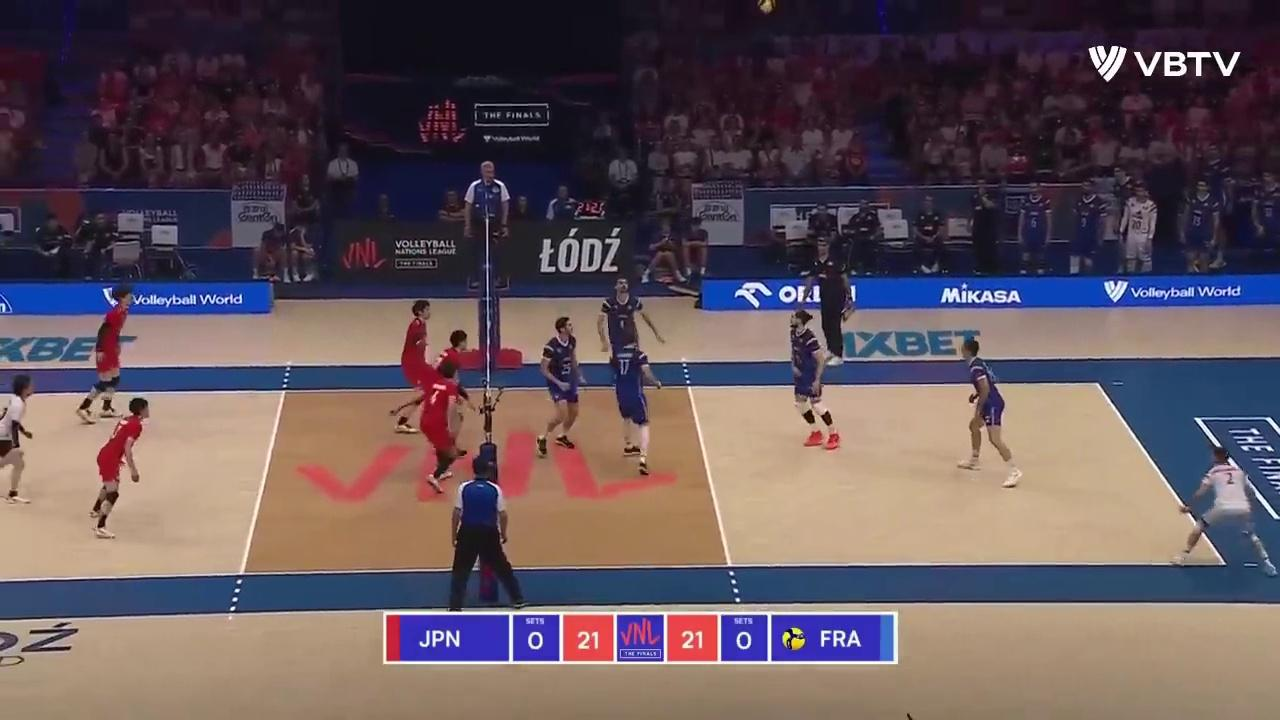ball: (758, 0, 777, 17)
